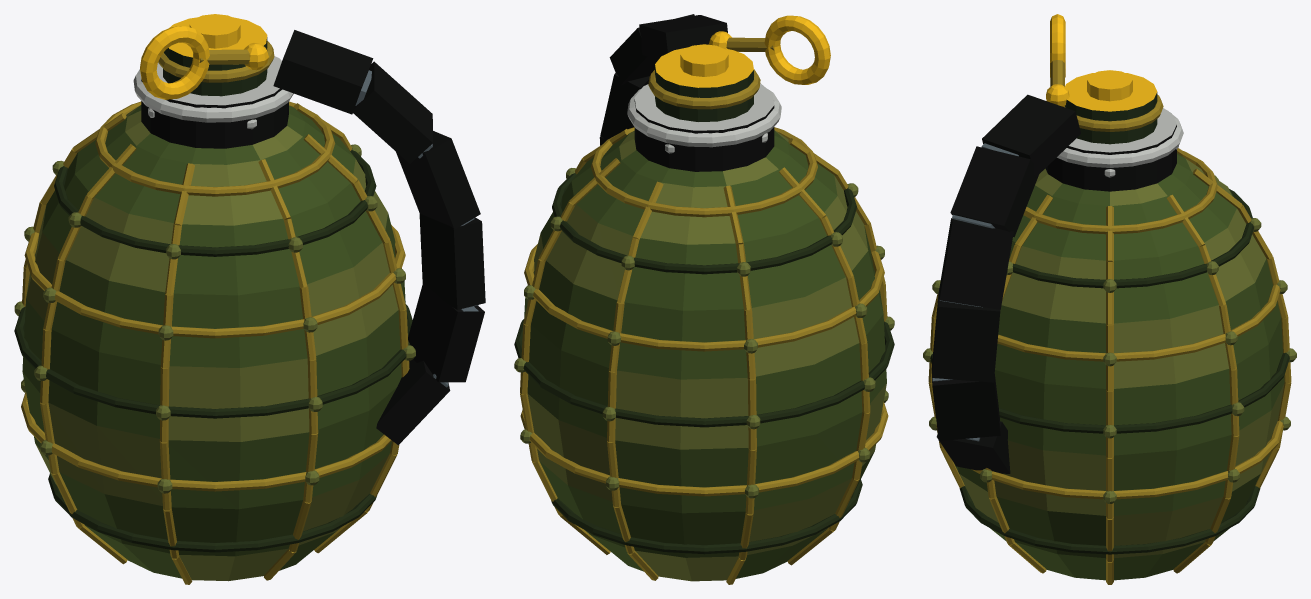
File: ITEM0008_Grenade.obj
The picture shows the model from 3 angles, left to right: view 1: azimuth 30°, elevation 25°; view 2: azimuth 150°, elevation 25°; view 3: azimuth 270°, elevation 25°; orthographic projection. The views are drawn at different scales.
Visible parts, largest first — view 1: GrenadeBody, SafetyLeverOutline, RaisedBodyGrid, FuseNeck, BodyBand4, BodyBand3, BodyBand2, BodyBand5, BodyBand1, BodyBand6, RibJoints, SafetyPinRing (+5 smaller); view 2: GrenadeBody, RaisedBodyGrid, FuseNeck, SafetyLeverOutline, FuseCap, BodyBand3, BodyBand4, BodyBand2, BodyBand5, BodyBand1, BodyBand6, RibJoints (+5 smaller); view 3: GrenadeBody, SafetyLeverOutline, RaisedBodyGrid, FuseNeck, FuseCap, BodyBand1, BodyBand2, BodyBand3, BodyBand4, BodyBand5, BodyBand6, RibJoints (+6 smaller).
Part boxes in pixels (x1=…): GrenadeBody: x1=22, y1=105, x2=405, y2=581; SafetyLeverOutline: x1=273, y1=30, x2=485, y2=445; RaisedBodyGrid: x1=22, y1=103, x2=409, y2=584; FuseNeck: x1=141, y1=56, x2=288, y2=148; BodyBand4: x1=24, y1=224, x2=405, y2=338; BodyBand3: x1=14, y1=304, x2=412, y2=418; BodyBand2: x1=21, y1=391, x2=391, y2=491; BodyBand5: x1=54, y1=150, x2=376, y2=256; BodyBand1: x1=48, y1=473, x2=376, y2=552; BodyBand6: x1=95, y1=101, x2=335, y2=196; RibJoints: x1=14, y1=144, x2=415, y2=493; SafetyPinRing: x1=140, y1=26, x2=209, y2=99; GrenadeBody: x1=524, y1=130, x2=886, y2=581; RaisedBodyGrid: x1=520, y1=129, x2=887, y2=584; FuseNeck: x1=634, y1=83, x2=774, y2=171; SafetyLeverOutline: x1=599, y1=14, x2=727, y2=145; FuseCap: x1=655, y1=47, x2=753, y2=121; BodyBand3: x1=514, y1=319, x2=894, y2=427; BodyBand4: x1=524, y1=244, x2=884, y2=351; BodyBand2: x1=520, y1=401, x2=888, y2=496; BodyBand5: x1=552, y1=173, x2=856, y2=274; BodyBand1: x1=551, y1=479, x2=862, y2=554; BodyBand6: x1=591, y1=127, x2=817, y2=217; RibJoints: x1=514, y1=168, x2=894, y2=498; GrenadeBody: x1=954, y1=153, x2=1284, y2=580; SafetyLeverOutline: x1=931, y1=94, x2=1080, y2=473; RaisedBodyGrid: x1=928, y1=148, x2=1291, y2=584; FuseNeck: x1=1045, y1=108, x2=1176, y2=191; FuseCap: x1=1065, y1=73, x2=1157, y2=144; BodyBand1: x1=959, y1=486, x2=1260, y2=554; BodyBand2: x1=936, y1=421, x2=1283, y2=499; BodyBand3: x1=930, y1=352, x2=1289, y2=433; BodyBand4: x1=997, y1=284, x2=1280, y2=361; BodyBand5: x1=1012, y1=189, x2=1253, y2=288; BodyBand6: x1=1023, y1=151, x2=1217, y2=234; RibJoints: x1=923, y1=175, x2=1296, y2=503.
Size of the model in its own units: 0.1144 by 0.1749 by 0.1144.
